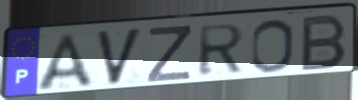A: (33, 31, 98, 93)
B: (298, 12, 349, 73)
O: (249, 17, 296, 74)
R: (196, 22, 247, 79)
V: (93, 25, 146, 88)
Z: (145, 24, 193, 85)
